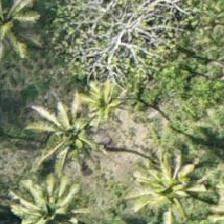coconut_tree: (55, 51, 145, 141), (36, 104, 126, 194), (127, 139, 217, 223), (5, 166, 95, 223), (0, 0, 56, 59)
